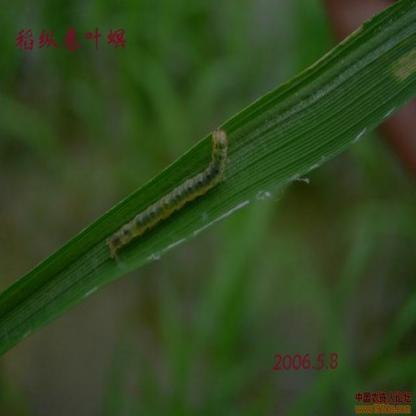leaf-folder: (99, 121, 242, 260)
